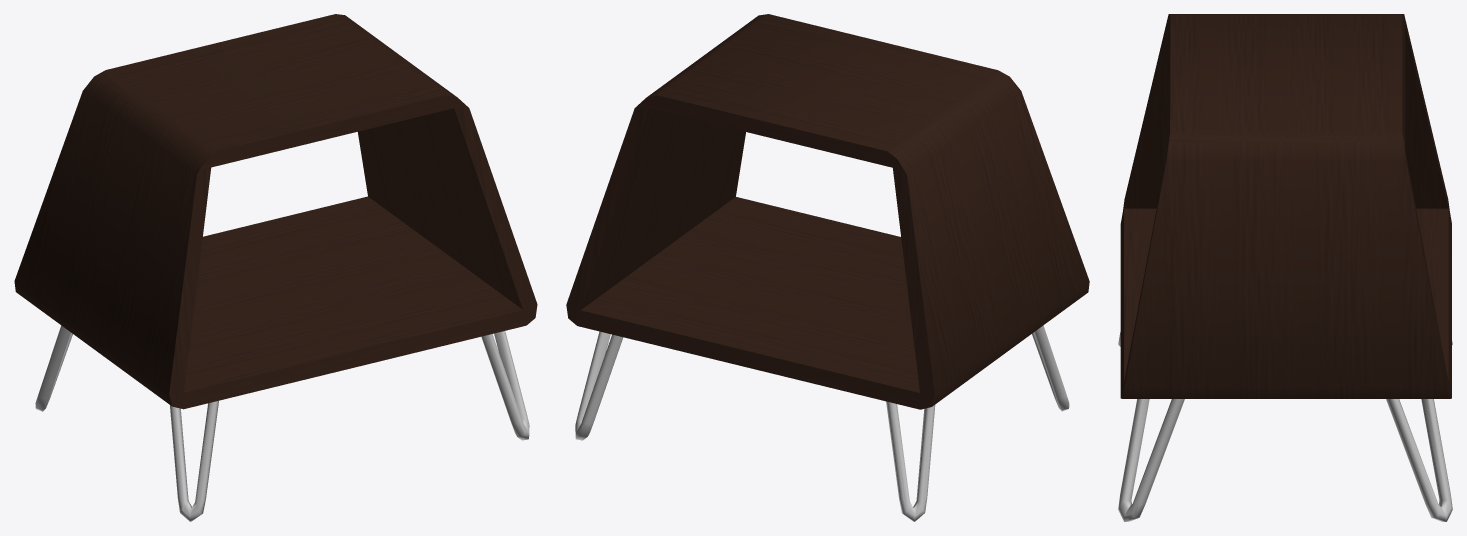
Rendered from Open_End_Table_01.FBX.
3 views of the same model, side by side, from view 1: azimuth 30°, elevation 25°; view 2: azimuth 150°, elevation 25°; view 3: azimuth 270°, elevation 25° (orthographic). The views are drawn at different scales.
Parts seen in each view (by area): view 1: End_table; view 2: End_table; view 3: End_table.
Part boxes in pixels (box(x1,y1,x2,y2)): End_table: box(14, 14, 537, 521); End_table: box(566, 14, 1089, 521); End_table: box(1118, 14, 1452, 521).
Bounding box in the file's own units: 134 × 120 × 101.
